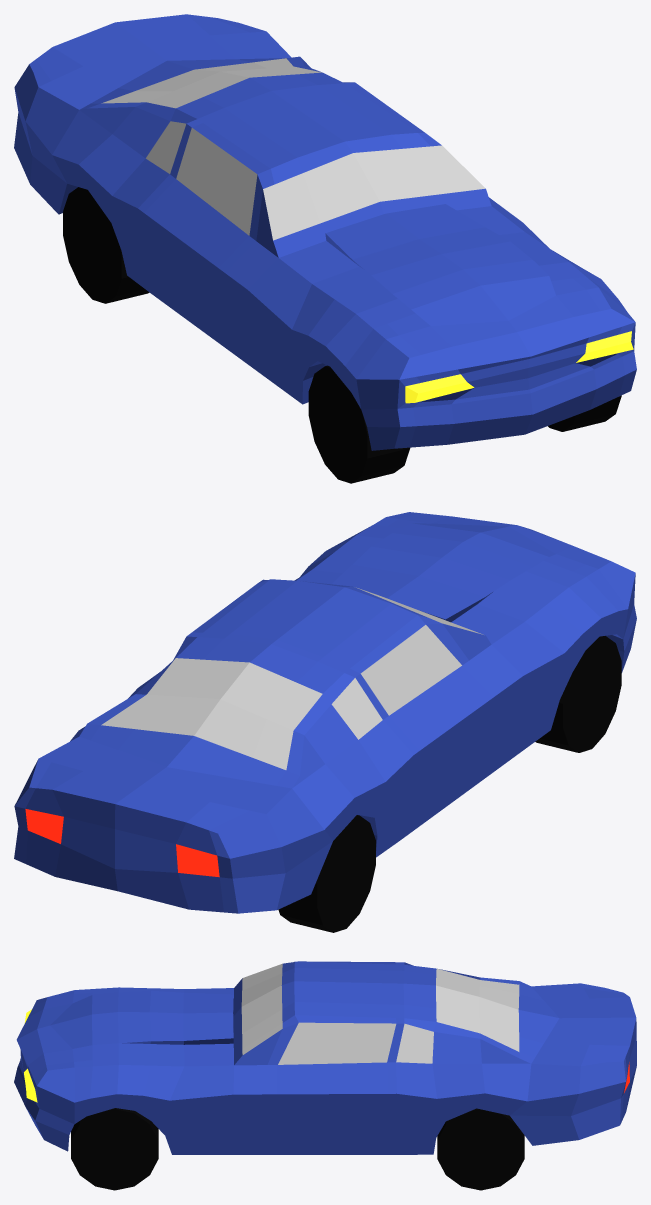
The model's file is BlueCar 2.fbx.
3 renders of one model, top to bottom at view 1: azimuth 30°, elevation 25°; view 2: azimuth 150°, elevation 25°; view 3: azimuth 270°, elevation 25°, orthographic. The views are drawn at different scales.
Visible parts, largest first — view 1: Plane; view 2: Plane; view 3: Plane.
Boxes of the visible parts, x1=… form: Plane: x1=14, y1=14, x2=636, y2=483; Plane: x1=14, y1=512, x2=636, y2=932; Plane: x1=14, y1=961, x2=636, y2=1190.
Bounding box in the file's own units: 264 × 692 × 200.
